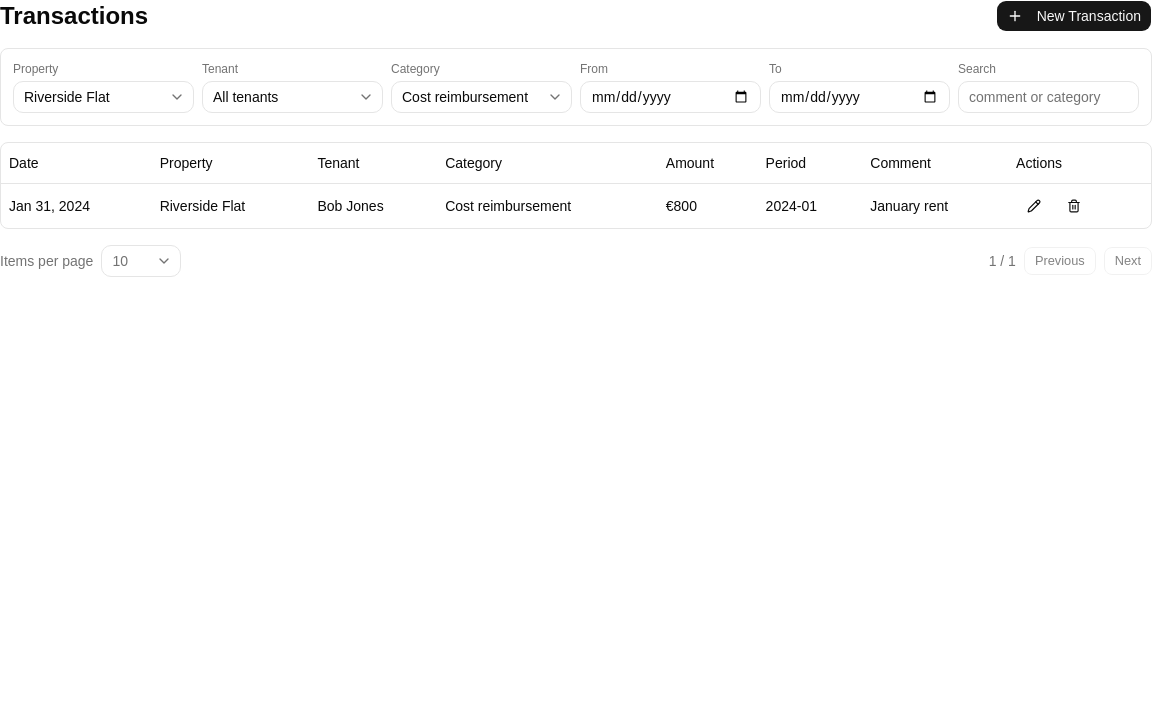
TransactionsPage › shows friendly category labels while preserving raw URL and API filter keys
The image size is (1152, 720).
Expected: the heading "Transactions" is shown, [0,0,148,32]
Expected: the text "Cost reimbursement" is shown, [402,87,528,107]
Click the dropdown labelled "Cost reimbursement" at (482, 97), box [391,81,572,113]
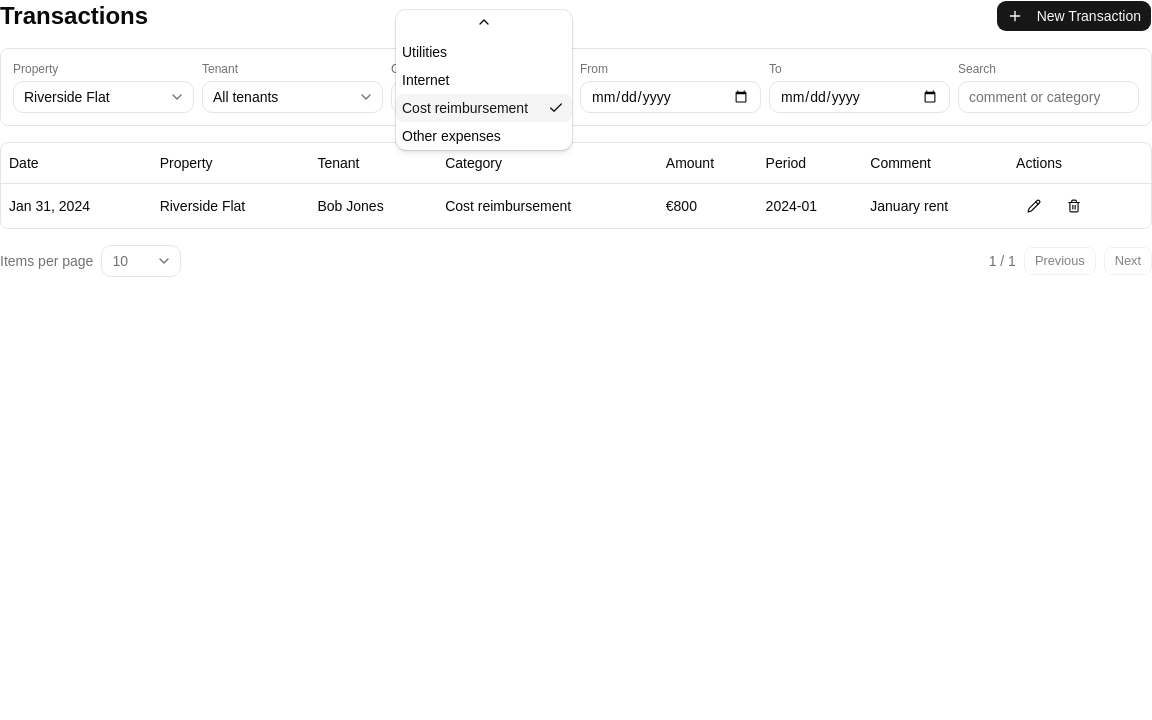
Expected: the option "Other expenses" is shown, [402,128,501,144]
Press Escape
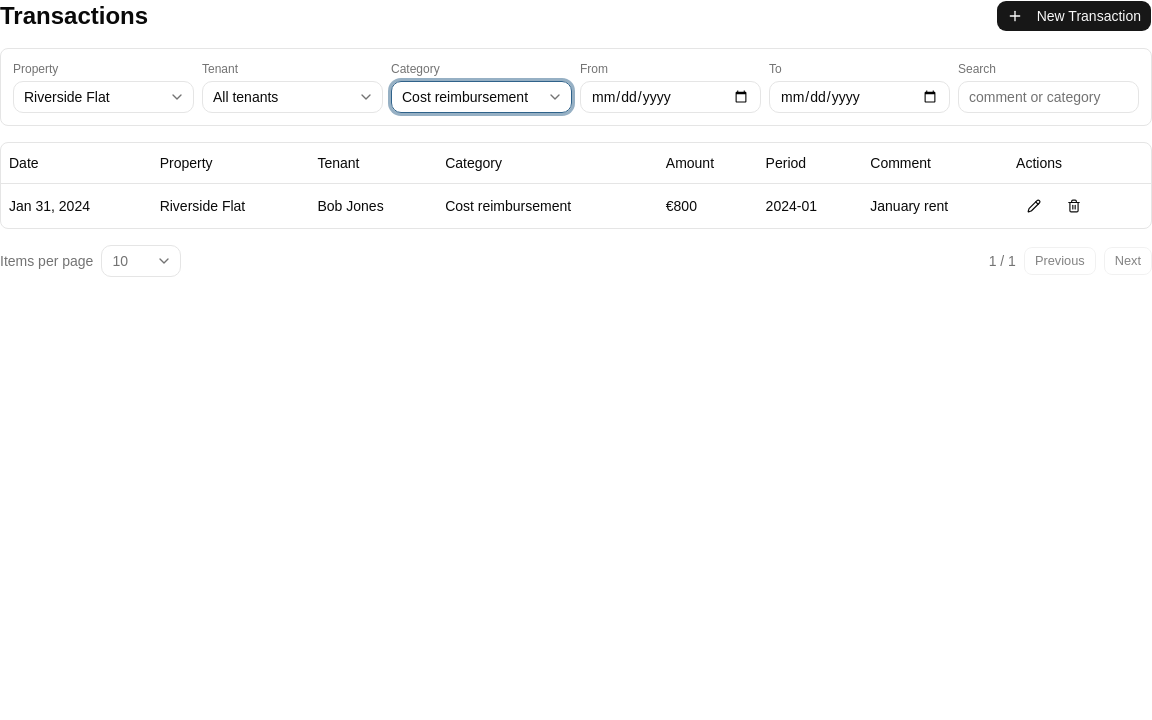
Click the button named "Delete transaction 3" at (1074, 206), box [1056,192,1092,220]
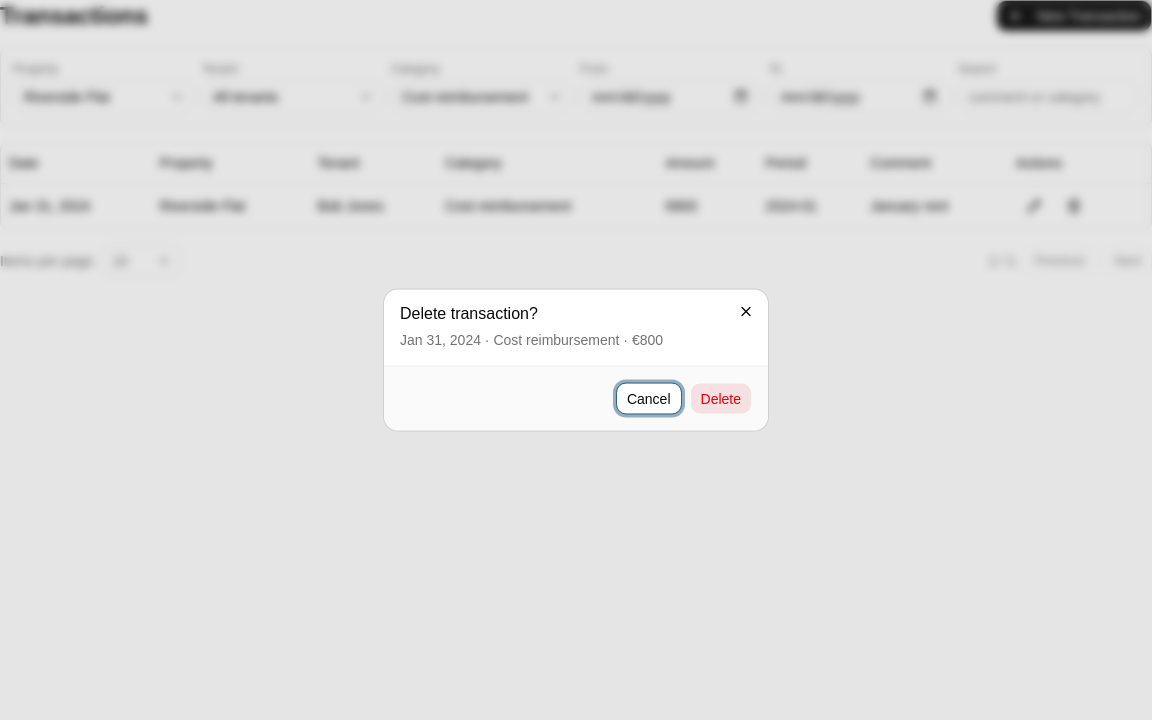
Expected: the heading "Delete transaction?" is shown, [400,304,538,322]
Expected: the dialog shows "Cost reimbursement", [400,332,663,348]
